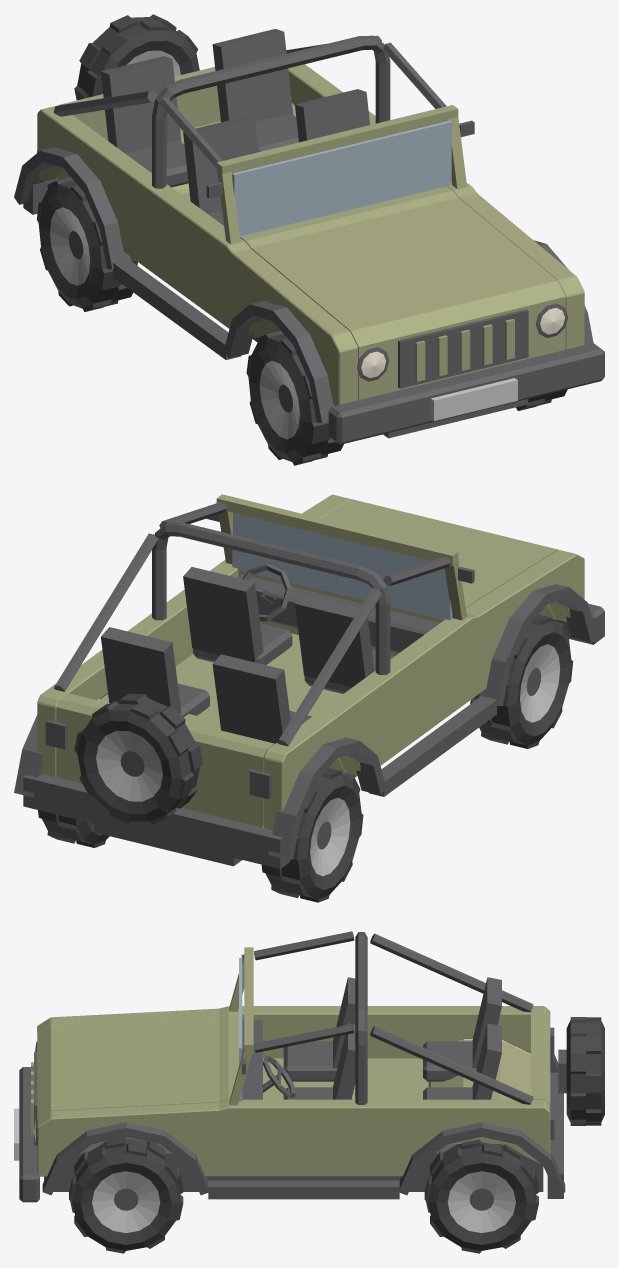
Rendered from Offroad.fbx.
The picture shows the model from 3 angles, top to bottom: view 1: azimuth 30°, elevation 25°; view 2: azimuth 150°, elevation 25°; view 3: azimuth 270°, elevation 25°; orthographic projection. The views are drawn at different scales.
Visible parts, largest first — view 1: Body, Wheel_1, Wheel_3; view 2: Body, Wheel_3, Wheel_1, Wheel_2; view 3: Body, Wheel_0, Wheel_2.
Part boxes in pixels (x1,y1,x2,y2): Body: (14, 14, 604, 444); Wheel_1: (246, 330, 343, 465); Wheel_3: (37, 177, 137, 311); Body: (14, 494, 604, 868); Wheel_3: (261, 768, 363, 902); Wheel_1: (470, 614, 573, 748); Wheel_2: (38, 810, 109, 847); Body: (14, 931, 604, 1202); Wheel_0: (69, 1137, 183, 1253); Wheel_2: (424, 1139, 538, 1253).
Bounding box in the file's own units: 1.96 × 1.84 × 4.32.
